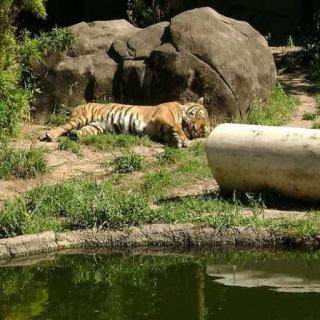Tiger: (41, 90, 217, 154)
